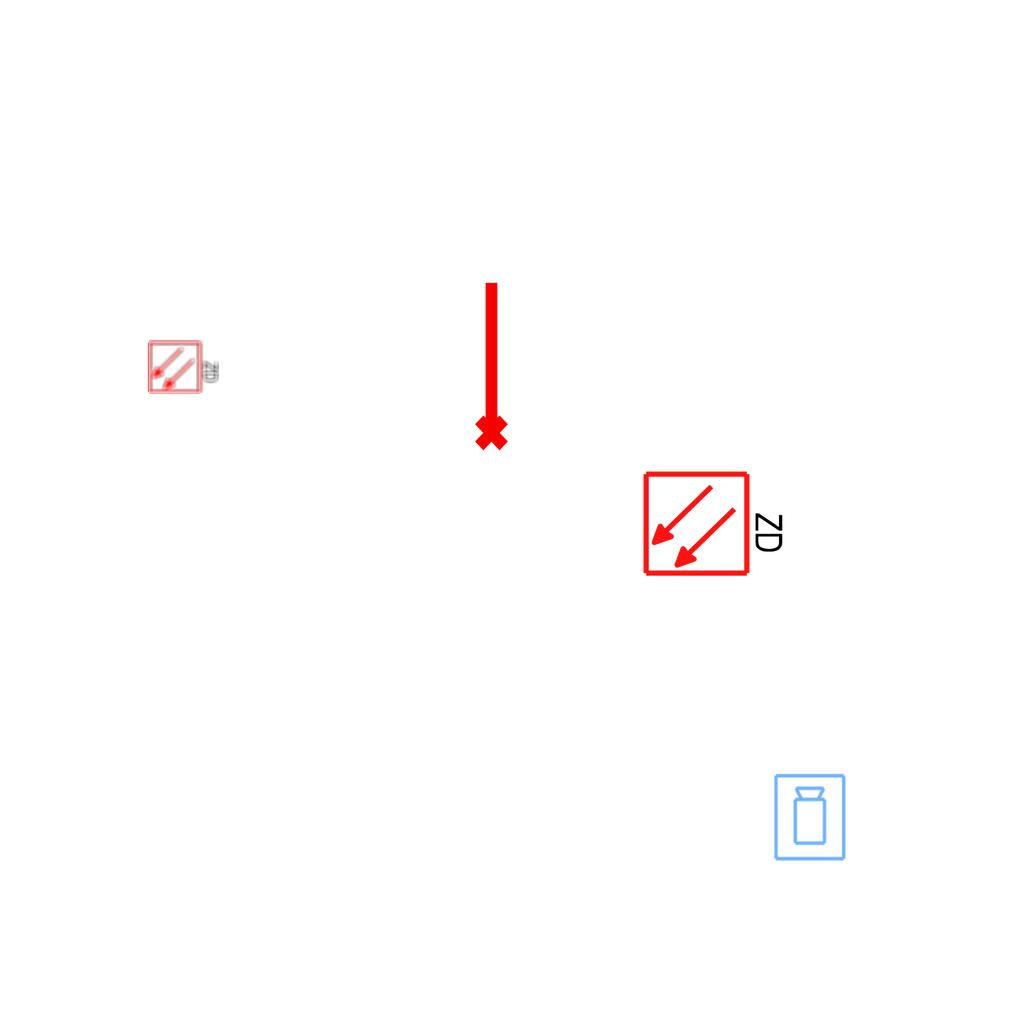ASR_Ansaugoeffnung: (466, 277, 512, 453)
KFO_Kamera_mit_Festobjektiv: (772, 772, 849, 863)
ZD_Melder_in_Zwischendecke_mit_Revisionsoeffnung_mind_40_x_40_cm: (641, 465, 790, 579), (147, 338, 221, 395)
